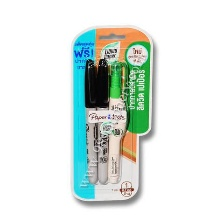book: (66, 22, 156, 205)
correction_fluid: (104, 58, 130, 185)
